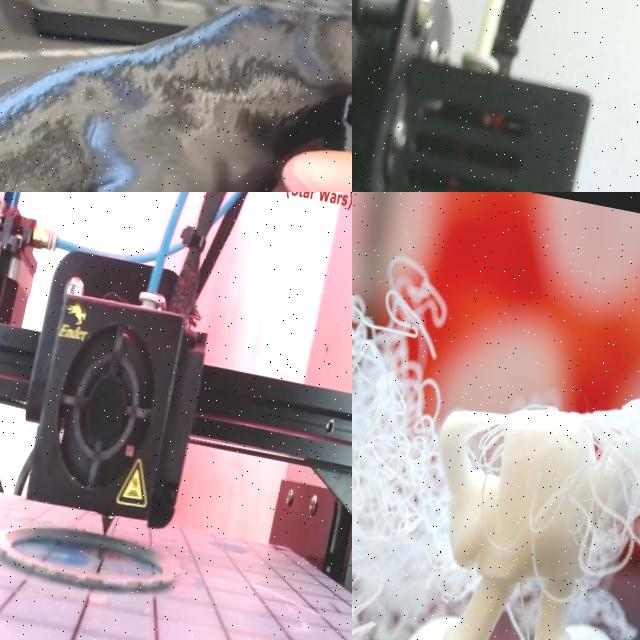spaghetti: (352, 226, 485, 640), (579, 357, 640, 582)
